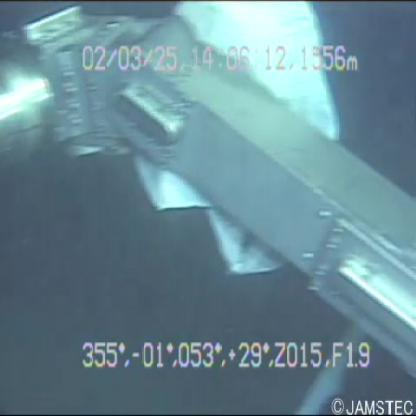Rov: (0, 3, 416, 382)
Rác: (129, 1, 340, 281)
